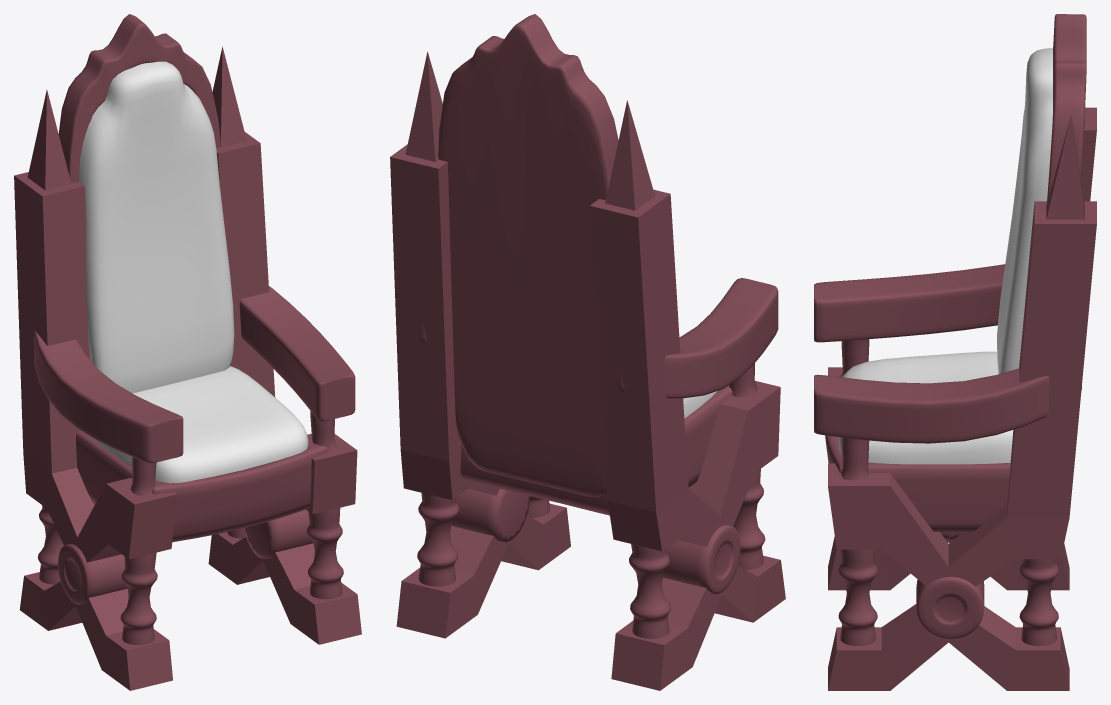
The model's file is ThroneAsset.fbx.
The picture shows the model from 3 angles, left to right: view 1: azimuth 30°, elevation 25°; view 2: azimuth 150°, elevation 25°; view 3: azimuth 270°, elevation 25°; orthographic projection. The views are drawn at different scales.
Parts seen in each view (by area): view 1: Cube.119, Cube.121, Cube.120; view 2: Cube.119; view 3: Cube.119, Cube.121, Cube.120.
Part boxes in pixels (box(x1,y1,x2,y2)): Cube.119: box(14, 14, 361, 690); Cube.121: box(79, 61, 234, 393); Cube.120: box(88, 366, 308, 483); Cube.119: box(390, 14, 785, 690); Cube.119: box(814, 14, 1096, 690); Cube.121: box(997, 48, 1052, 374); Cube.120: box(838, 351, 1013, 464).
Bounding box in the file's own units: 103 × 93.45 × 224.
